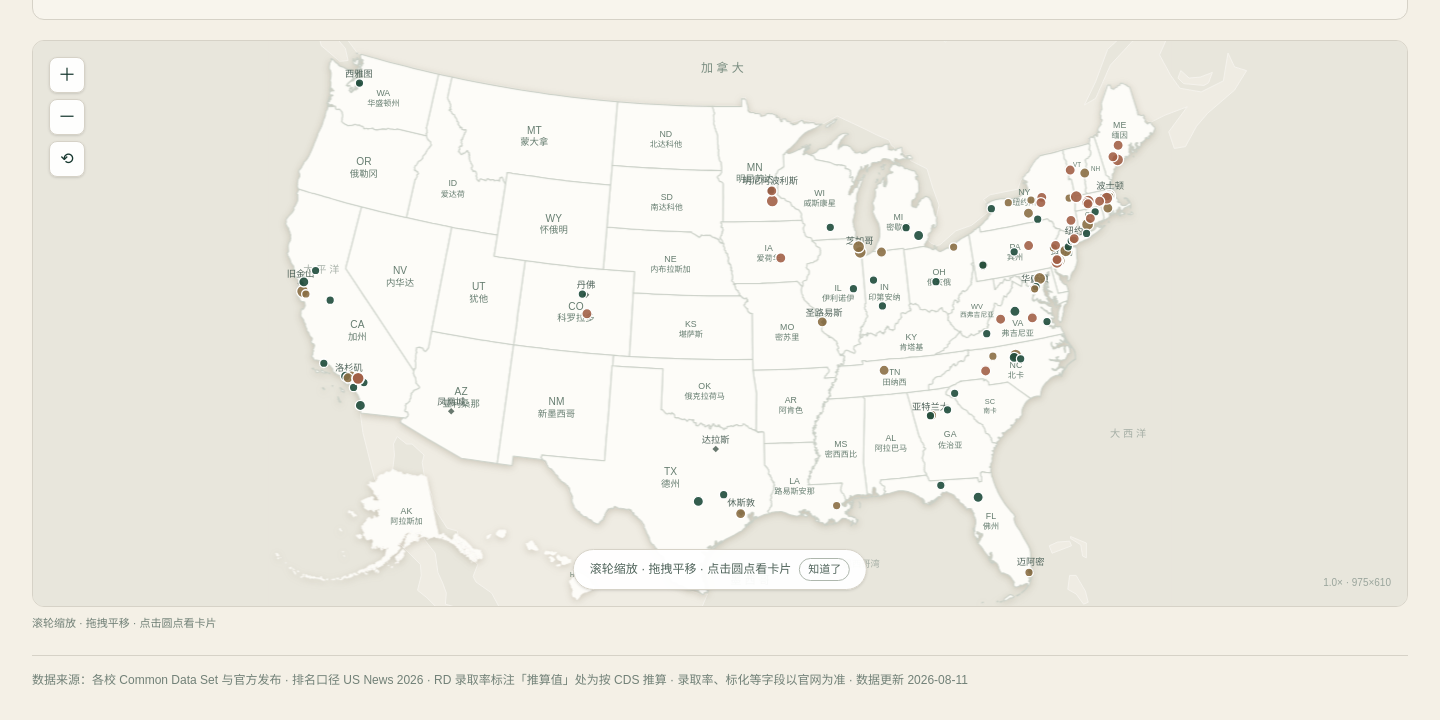
it: /colleges 的详情栏显隐 › 点地图圆点 → 出现右侧详情栏，版面切成左地图 / 右详情
This screenshot has width=1440, height=720.
(page scrolled)
Press the mouse on the picture named "美国院校分布地图" at point(720, 323), box [33,40,1407,606]
(page scrolled)
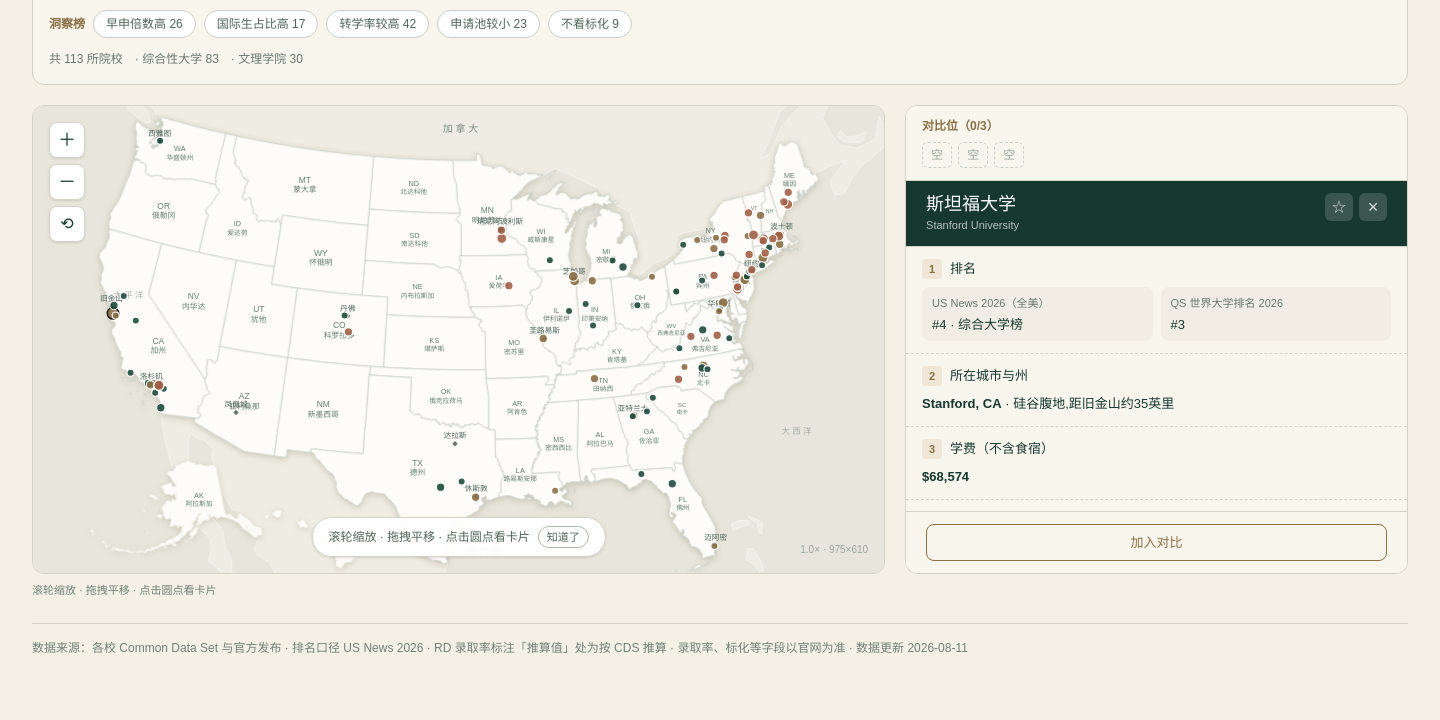
Expected: the element with class "colleges-split" is shown
Expected: the text "对比位（0/3）" is shown, [922,118,999,134]
Expected: the heading "1 排名" is shown, [922,259,976,279]
